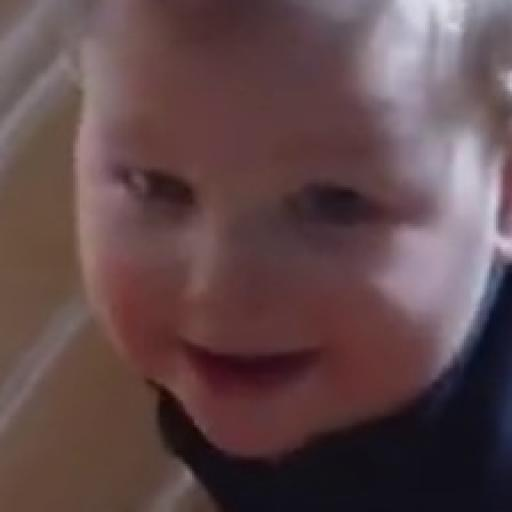Autism: (76, 4, 512, 465)
